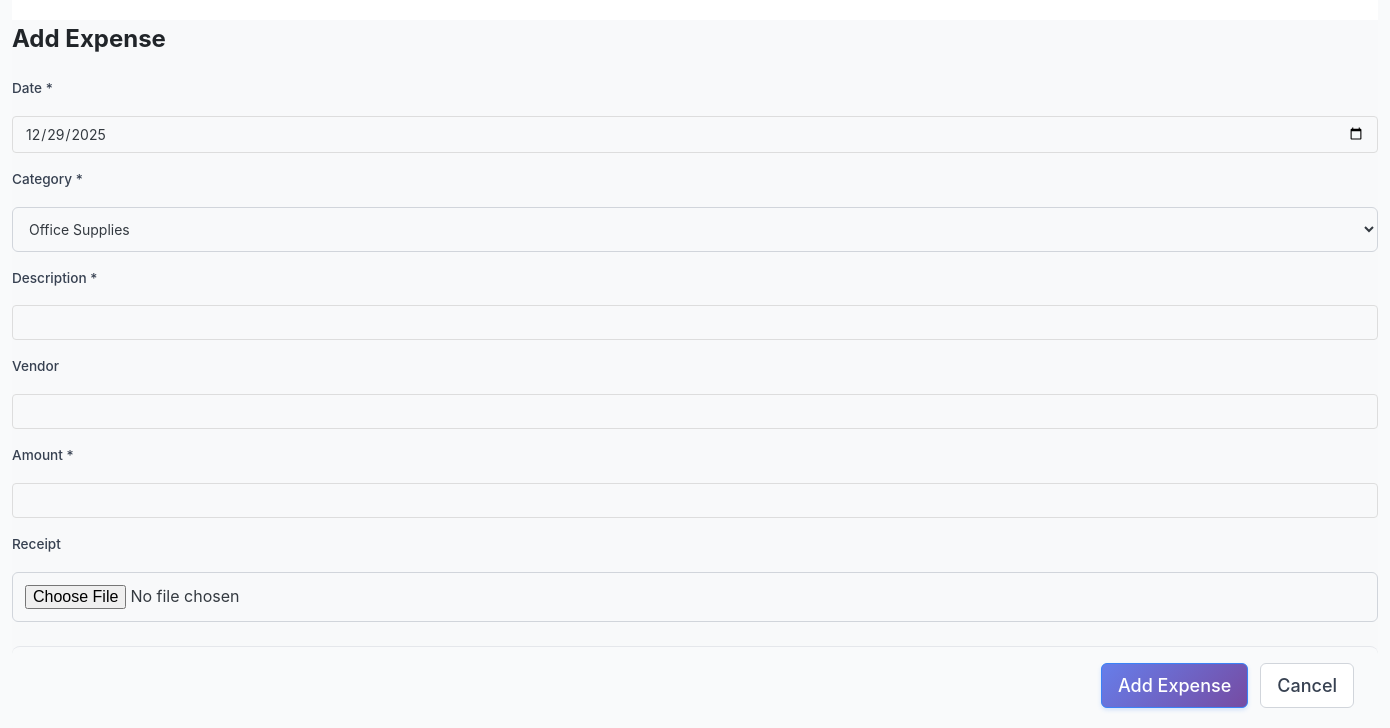
Scenario: ExpenseForm › Form Submission › handles API errors during submission
This screenshot has width=1390, height=728.
Type "Test expense" into the field labelled "Description *" at (695, 323), box left=12, top=306, right=1378, bottom=340
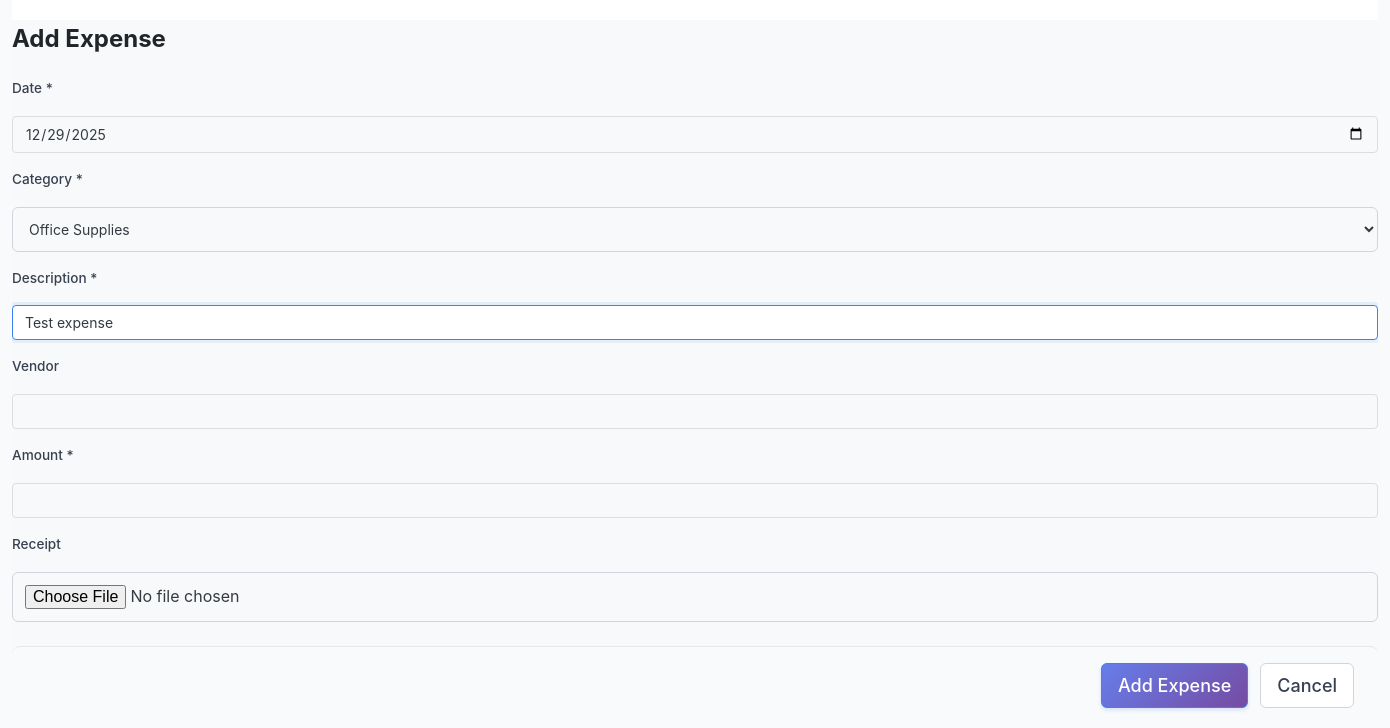
Type "100" into the number field labelled "Amount *" at (695, 500), box left=12, top=483, right=1378, bottom=518
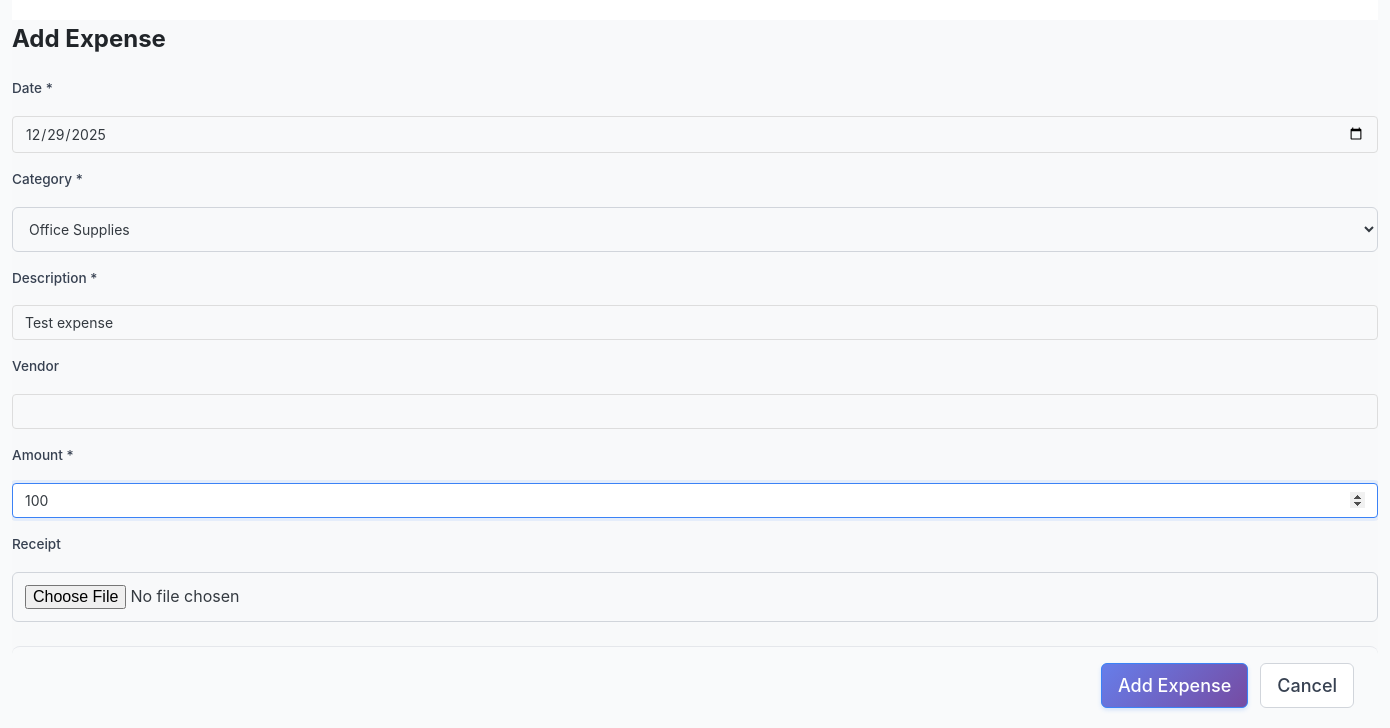
Click the button "Add Expense" at (1175, 685), box left=1101, top=663, right=1248, bottom=708
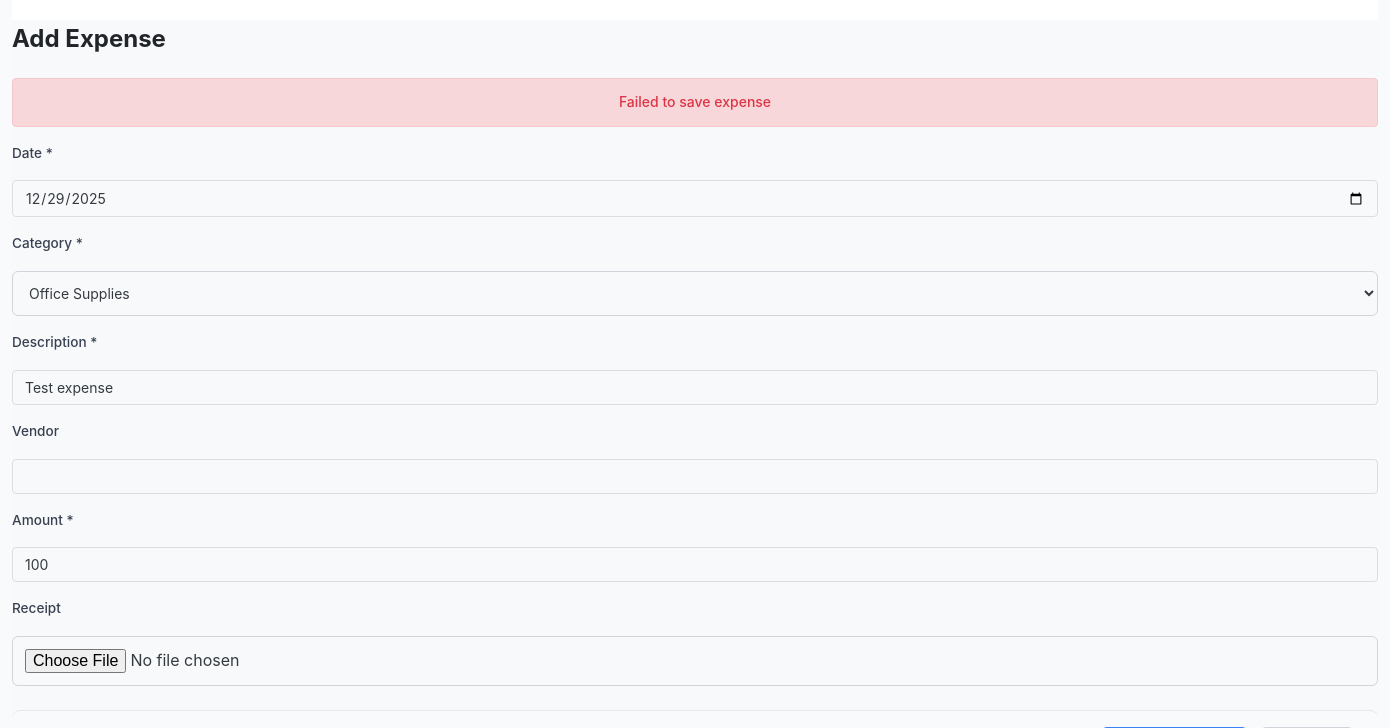
Now the text "Failed to save expense" is shown, box left=12, top=78, right=1378, bottom=127
